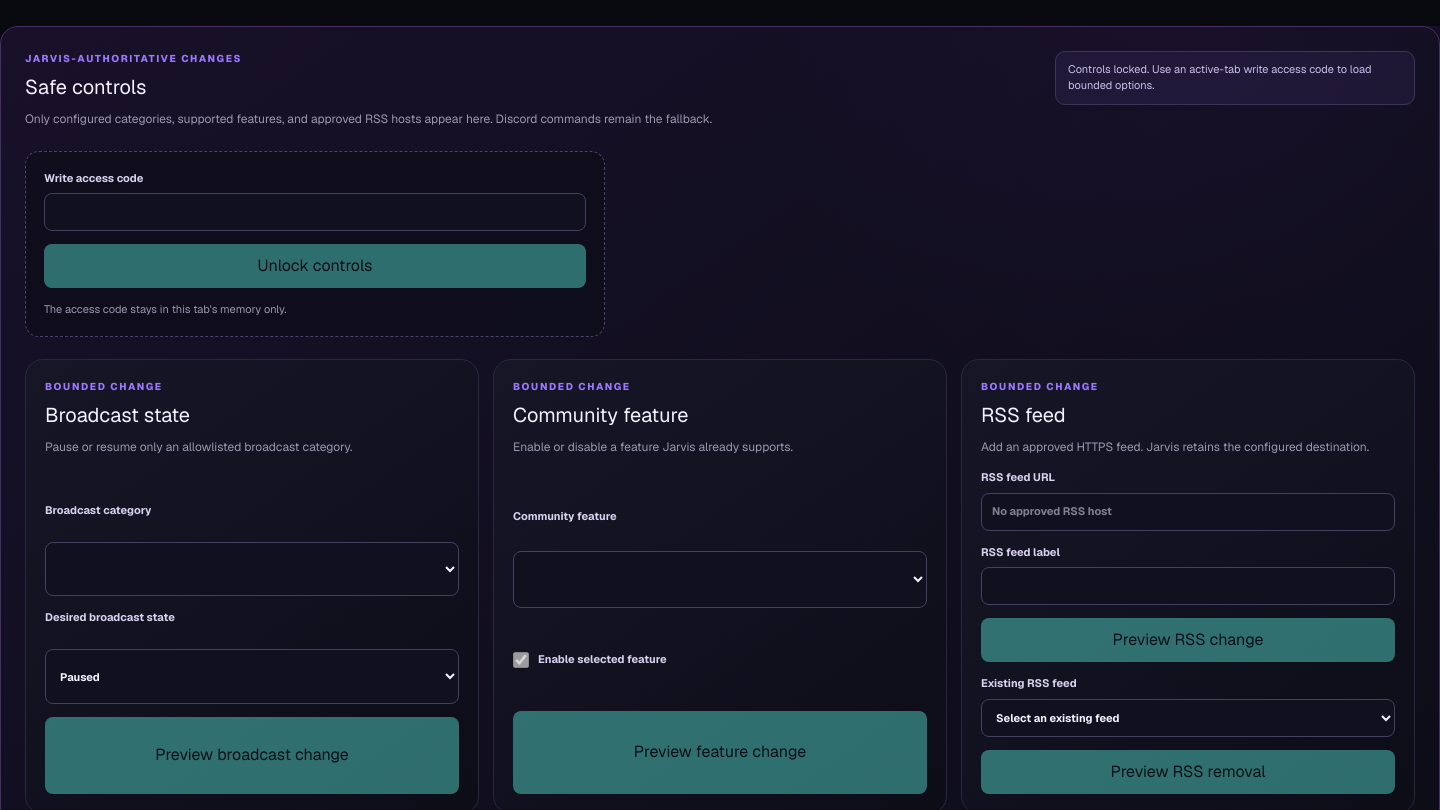
Scenario: Command Deck safe controls › uses only a validated configured API origin instead of the deployed Sites origin
This screenshot has width=1440, height=810.
Step 1. Type "write-only-token" into the password field labelled "Write access code" → (315, 212), box [44,193,586,231]
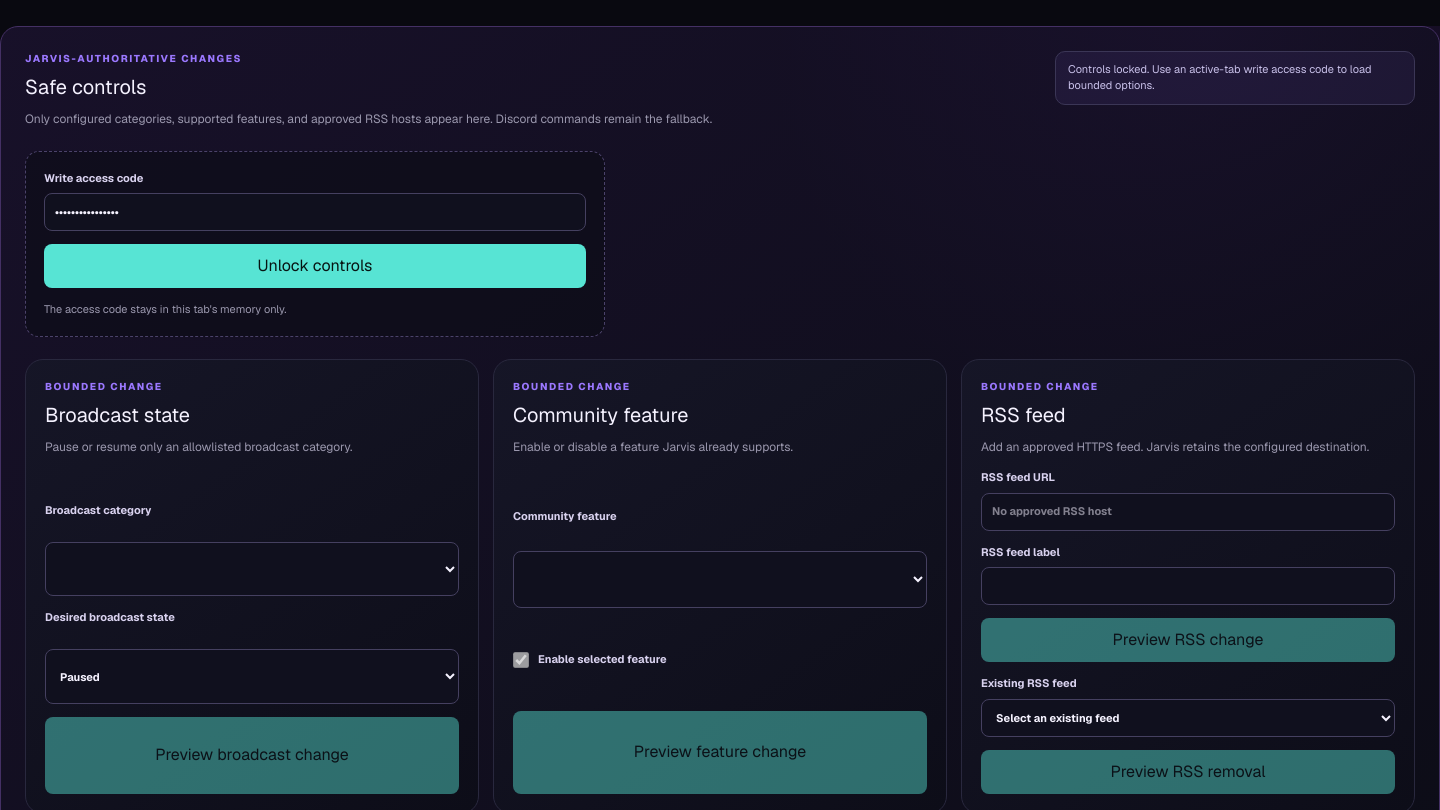
Step 2. Click the button "Unlock controls" → (315, 266), box [44,244,586,288]
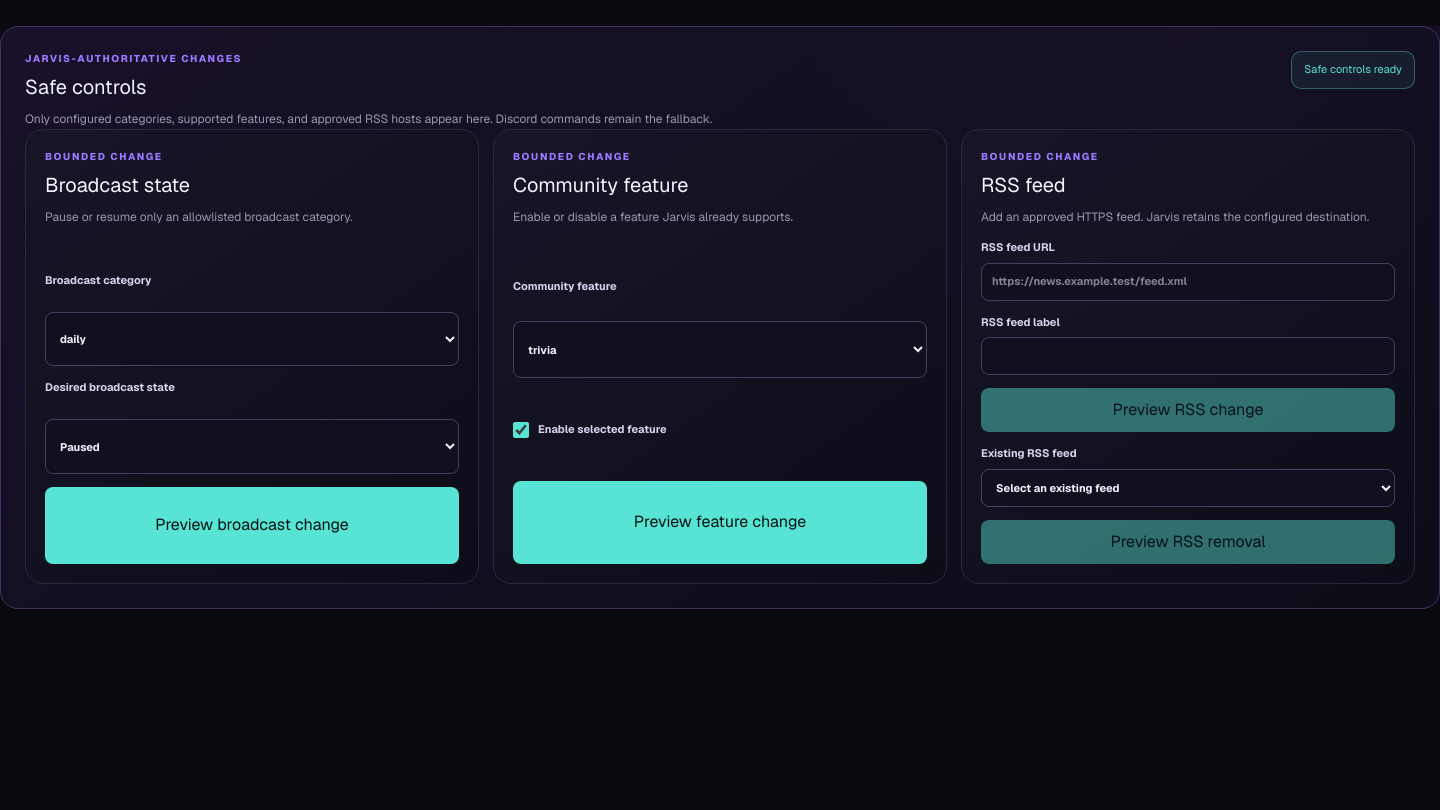
Now the text "Safe controls ready" is shown, box [1291,51,1415,89]
